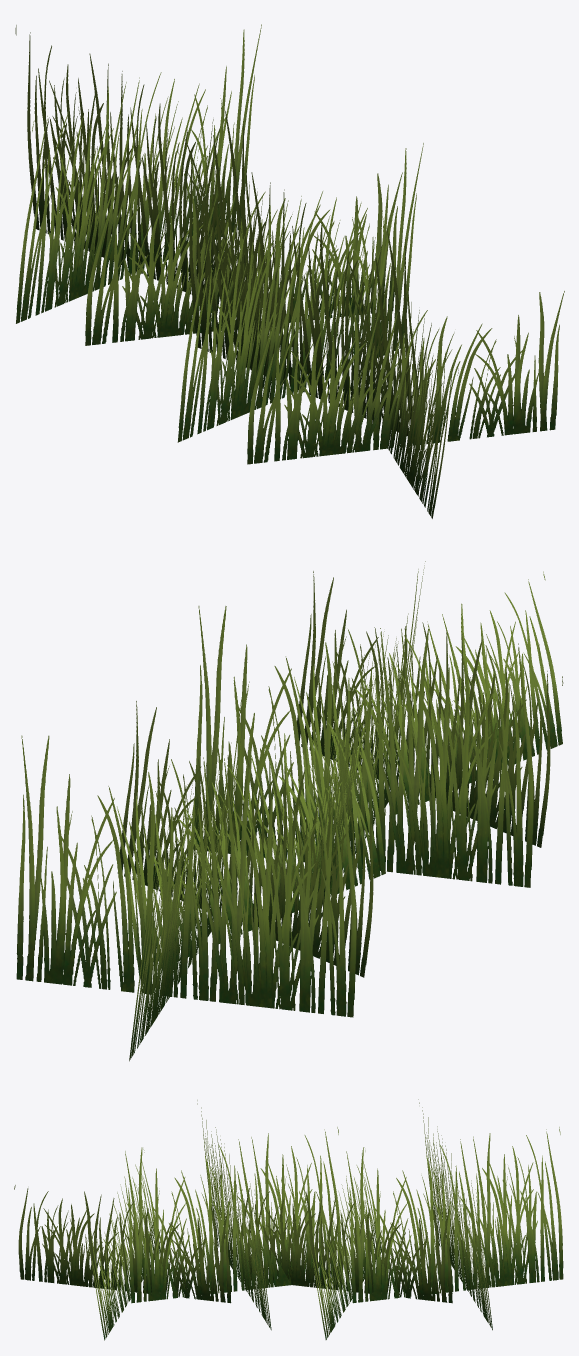
Rendered from grass-tuft.glb.
3 views of the same model, one above another, from view 1: azimuth 30°, elevation 25°; view 2: azimuth 150°, elevation 25°; view 3: azimuth 270°, elevation 25° (orthographic). The views are drawn at different scales.
Parts seen in each view (by area): view 1: stk_grassAlpha.png__; view 2: stk_grassAlpha.png__; view 3: stk_grassAlpha.png__.
Part boxes in pixels (left/top/right/bottom): stk_grassAlpha.png__: left=15, top=24, right=564, bottom=518; stk_grassAlpha.png__: left=16, top=561, right=563, bottom=1061; stk_grassAlpha.png__: left=14, top=1099, right=563, bottom=1340.
Bounding box in the file's own units: 2.14 × 1.51 × 4.98.
1 material, 1 textured.
